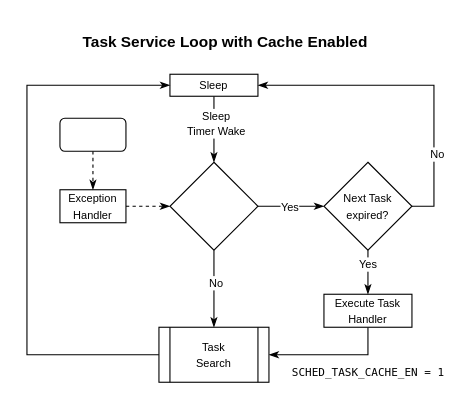
The diagram is 463 pixels wide and 411 high, and some of its shapes have lost their labels. Here are the shapes that lost their labels. From the top down, the box of each, then its label:
(59, 117, 126, 151): Exception Event
(169, 161, 258, 250): Cached Next Task set?
